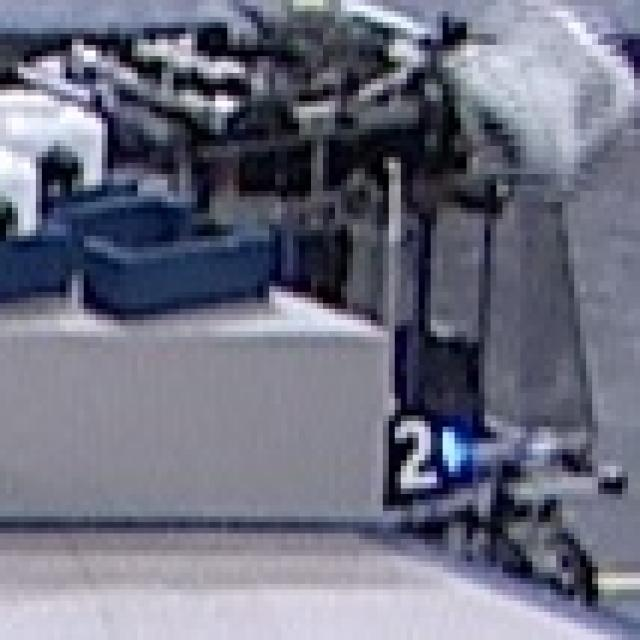B2: (359, 398, 466, 499)
